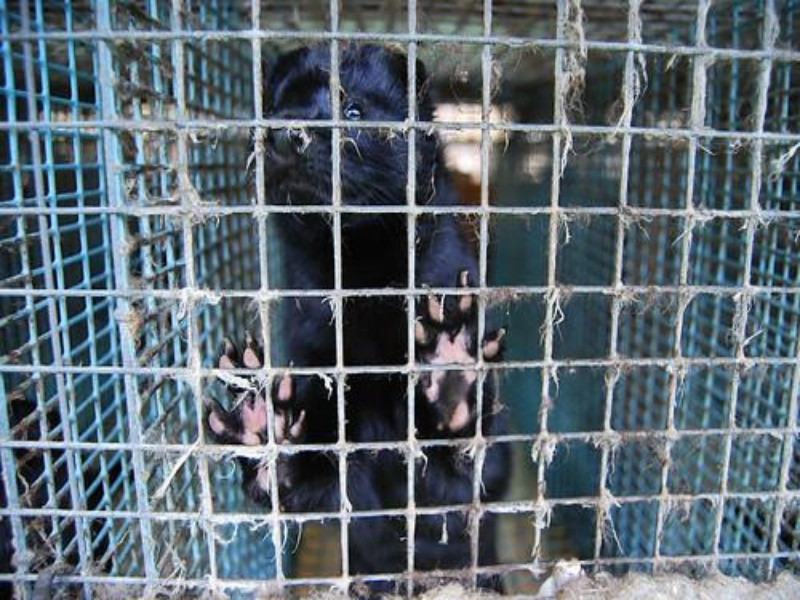minkish: (210, 42, 510, 592)
